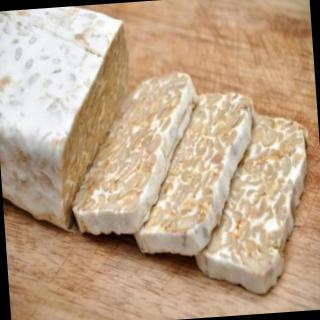Tempe: (62, 62, 320, 308)
